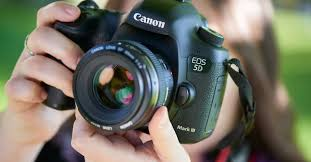camera: (52, 2, 224, 137)
